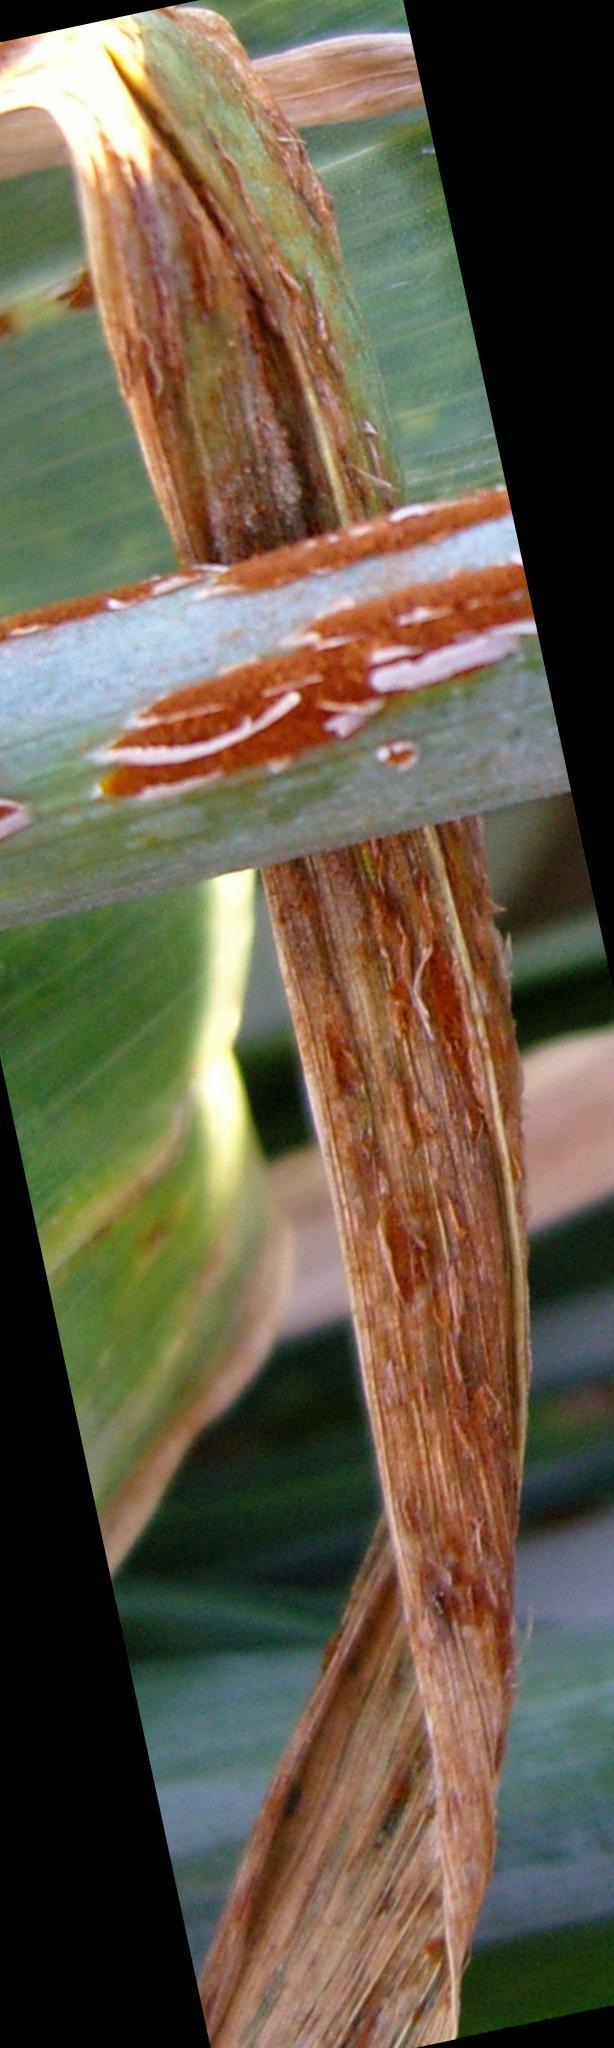Wheat: (9, 537, 554, 861)
